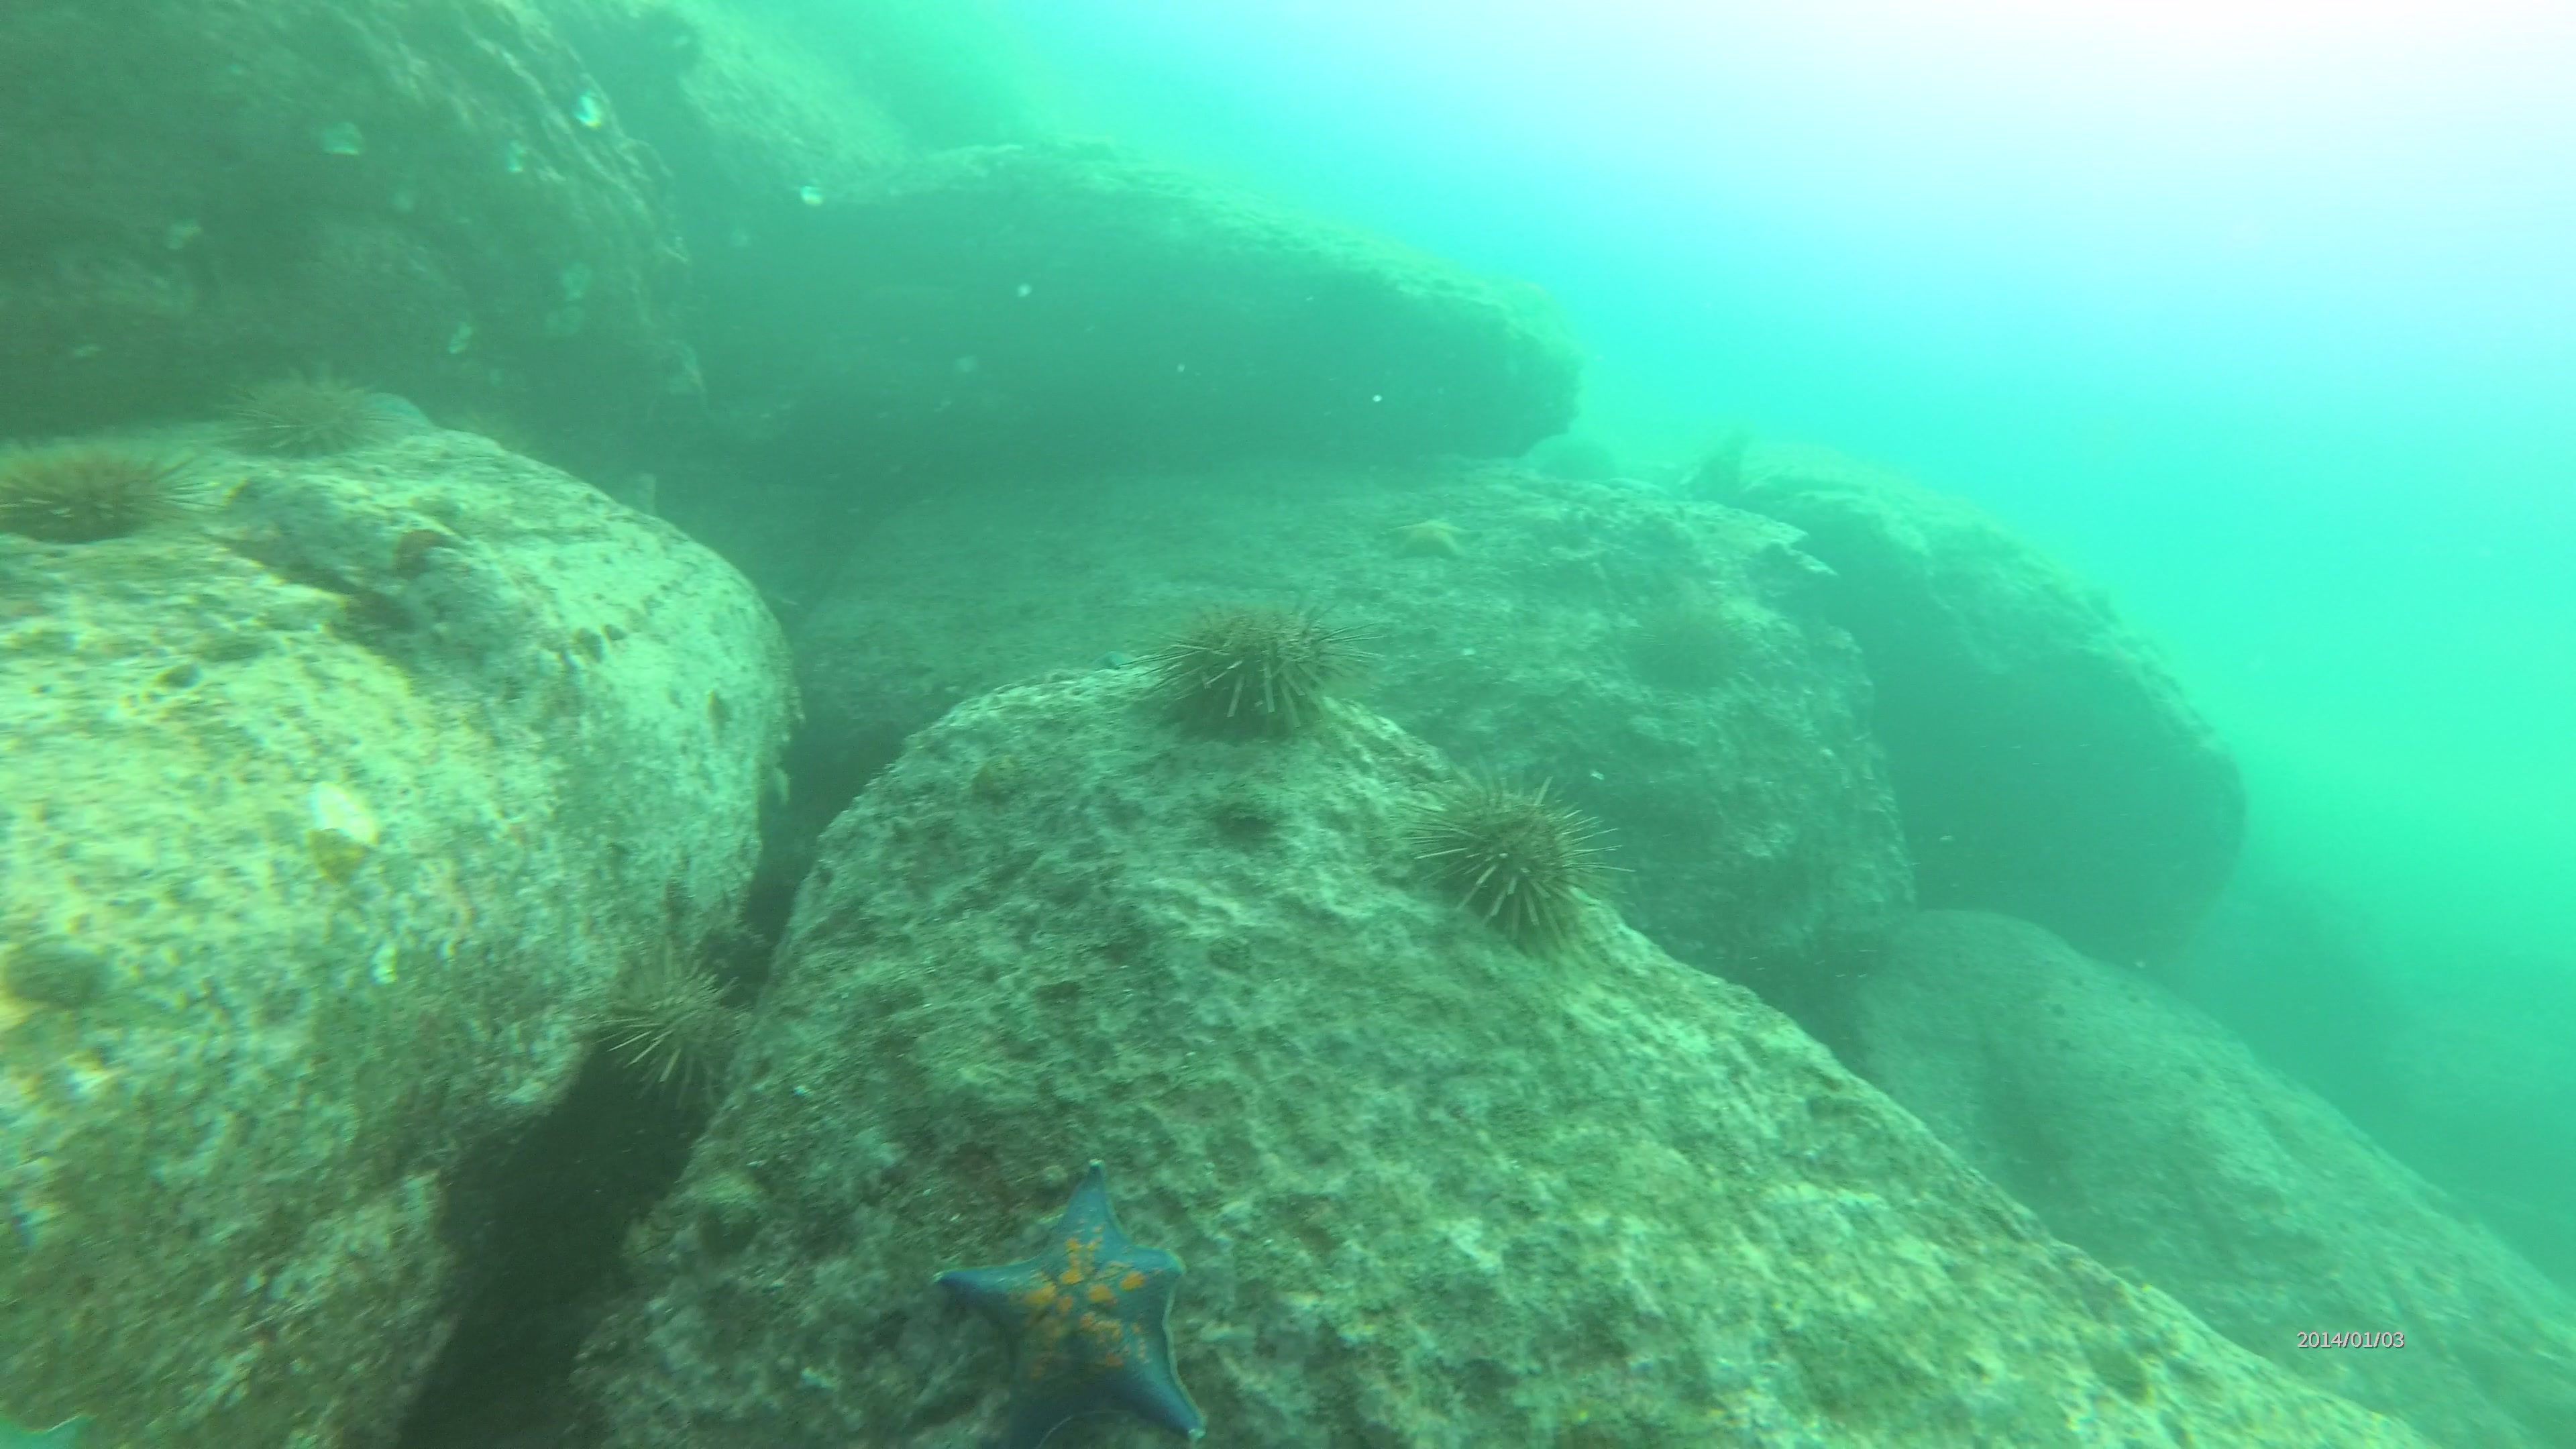echinus: (1412, 761, 1619, 947), (1150, 594, 1378, 747), (603, 931, 763, 1108), (11, 432, 198, 550), (218, 366, 389, 465), (1624, 580, 1737, 694)
starfish: (934, 1164, 1223, 1449), (1384, 502, 1476, 566)
